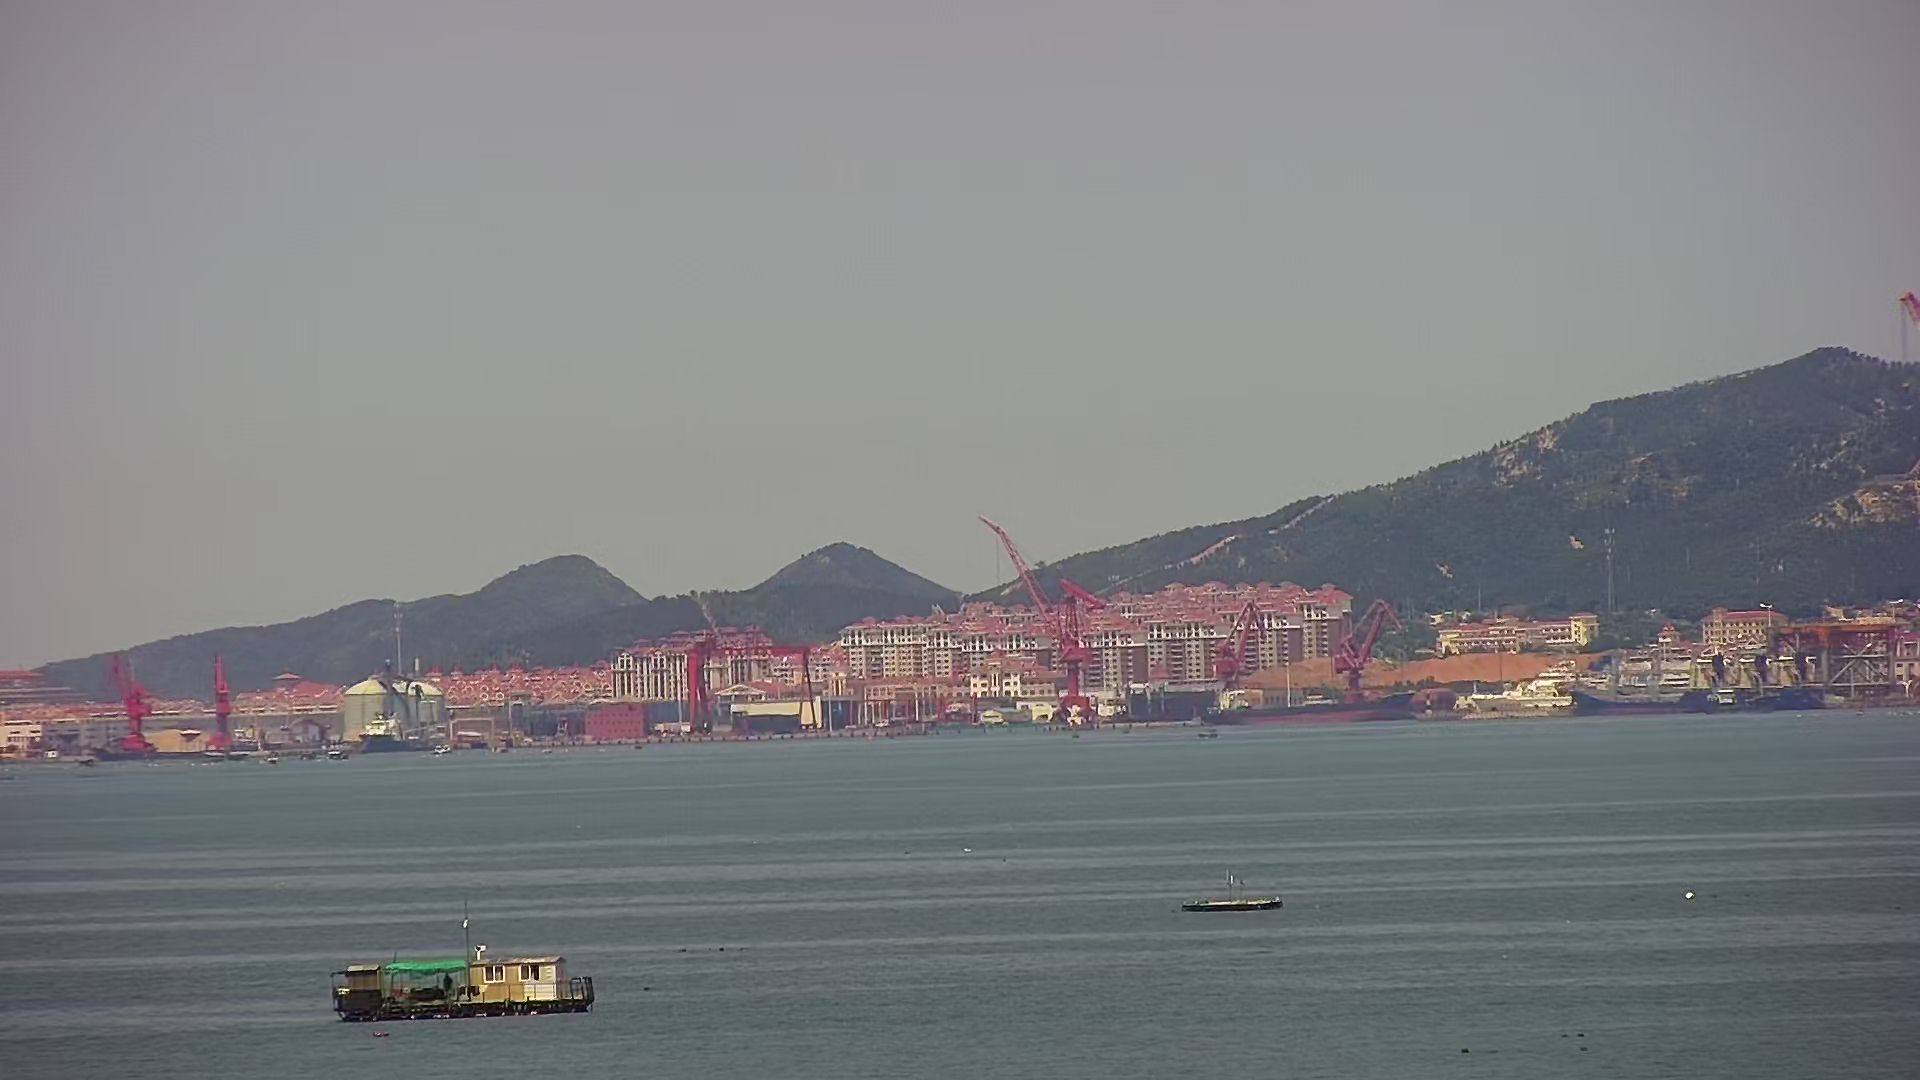boat: (1182, 866, 1288, 916)
platform: (330, 894, 599, 1030)
